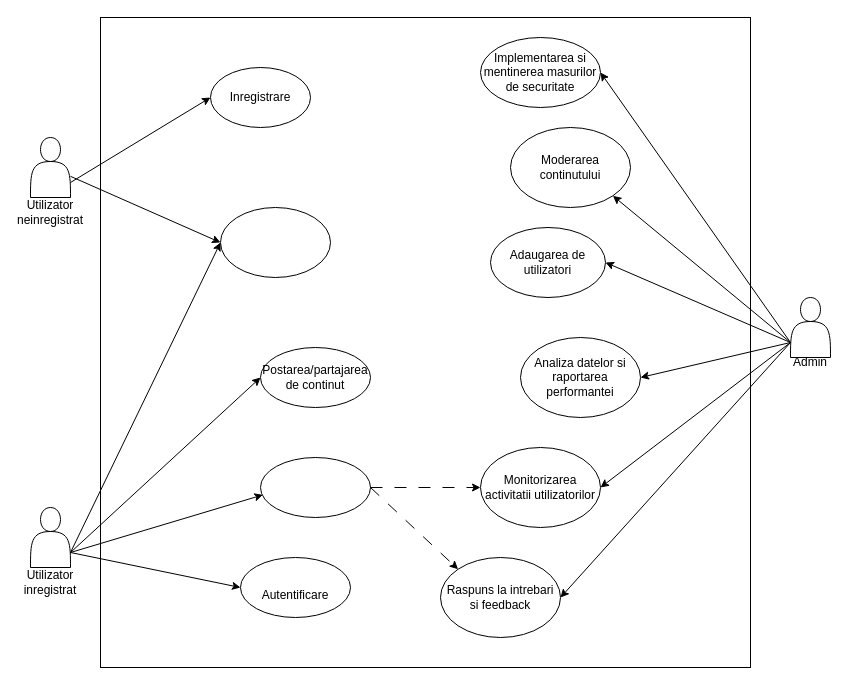
The diagram is 852 pixels wide and 685 high, and some of its shapes have lost their labels. Each missing label, with the centre of its shape:
Aprecierea postarilor: the point at 315,487
Vizualizarea postarilor: the point at 275,242
